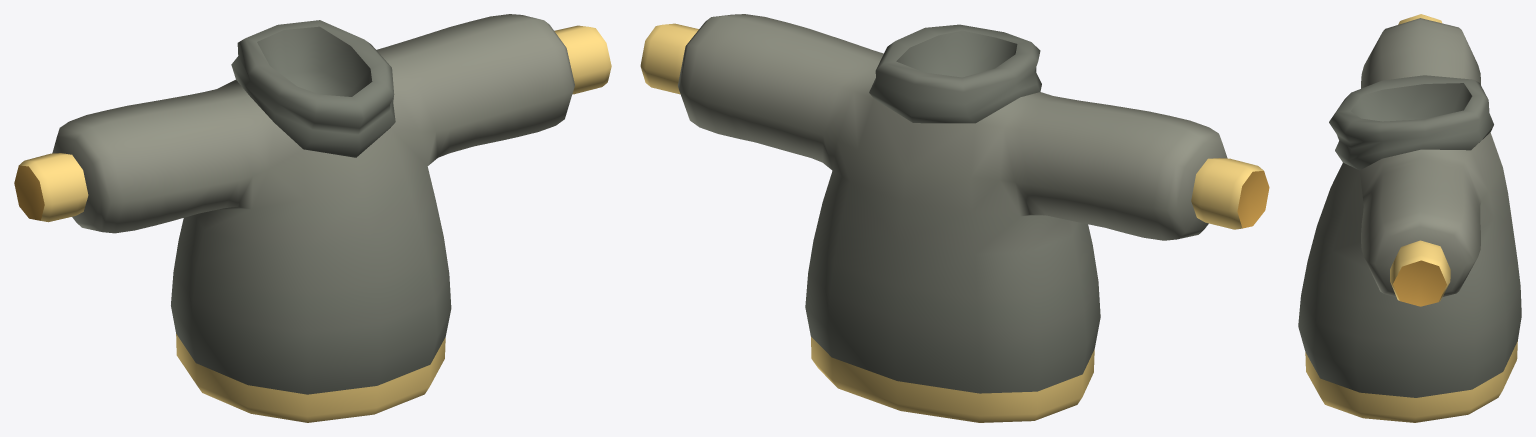
File: Top_21.fbx
3 views of the same model, side by side, from view 1: azimuth 30°, elevation 25°; view 2: azimuth 150°, elevation 25°; view 3: azimuth 270°, elevation 25° (orthographic). The views are drawn at different scales.
Visible parts, largest first — view 1: Top_21; view 2: Top_21; view 3: Top_21.
Boxes of the visible parts, x1,y1,x2,y2 form: Top_21: [14, 14, 611, 422]; Top_21: [640, 14, 1269, 422]; Top_21: [1298, 14, 1521, 422].
Size of the model in its own units: 95.16 by 51.13 by 36.49.
